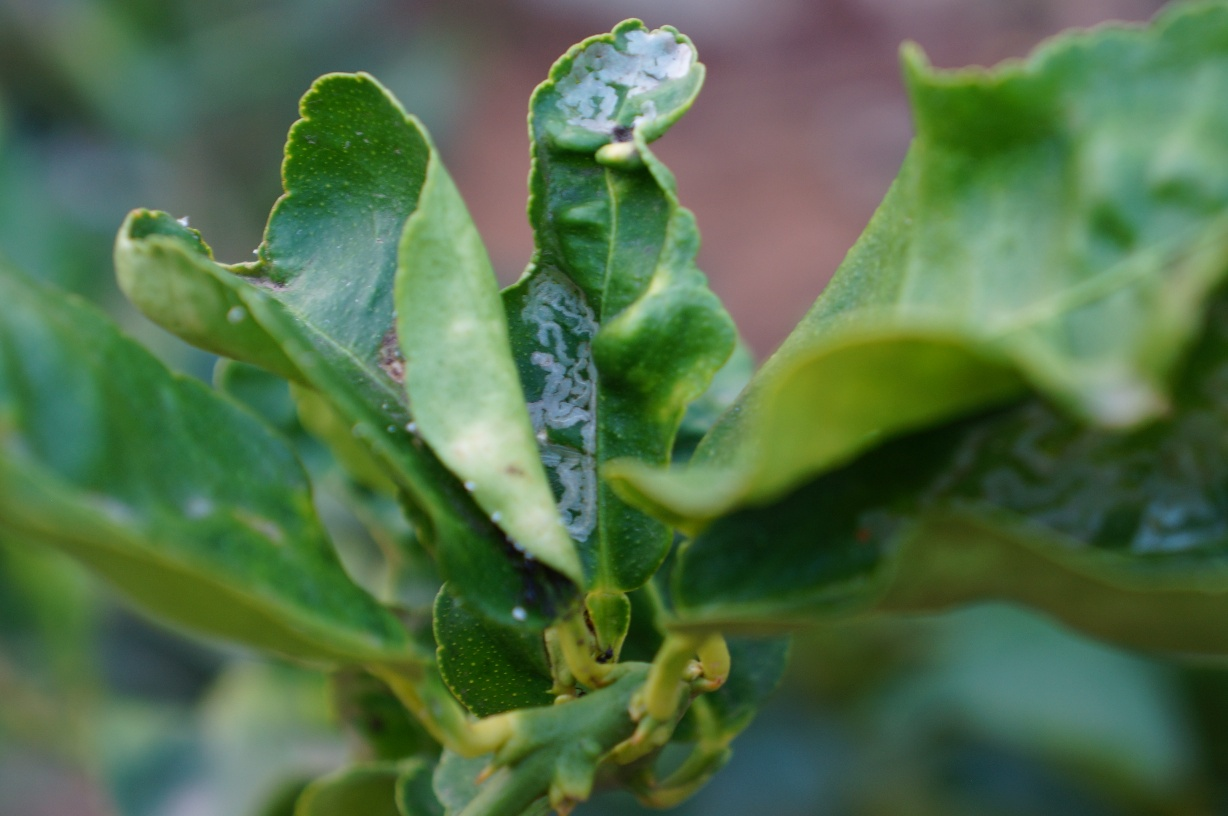curly: (523, 15, 745, 499)
damage: (512, 268, 620, 546), (533, 16, 696, 129)
